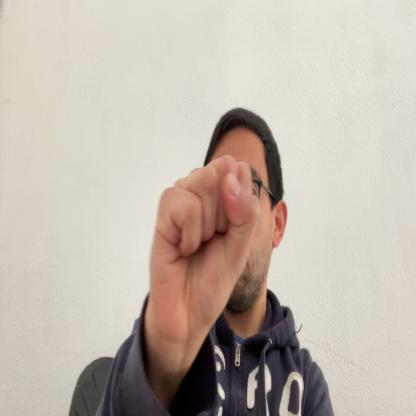S: (148, 153, 260, 350)
